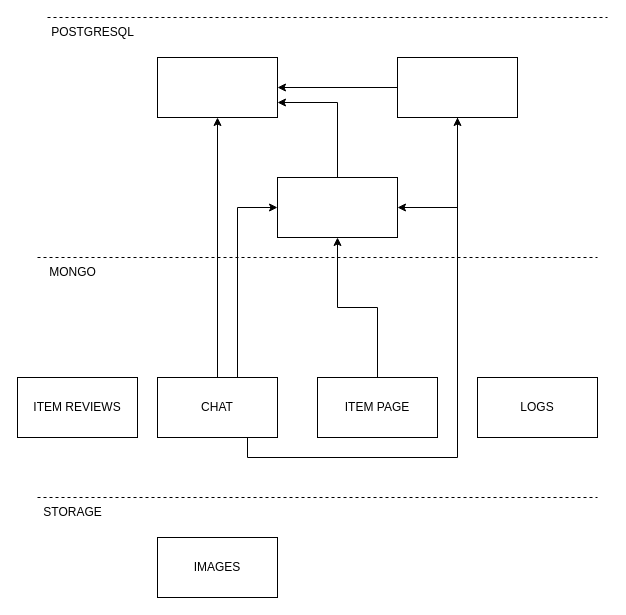
Image size: 626x615. Some labels were removed from this diagram. The shapes that lost their labels are listed below. From the top down, each one's box as (x1, y1, x2, y2) in pixels, then its label:
(156, 56, 278, 118): USERS
(396, 56, 518, 118): TRANSACTIONS
(276, 176, 398, 238): ITEMS
